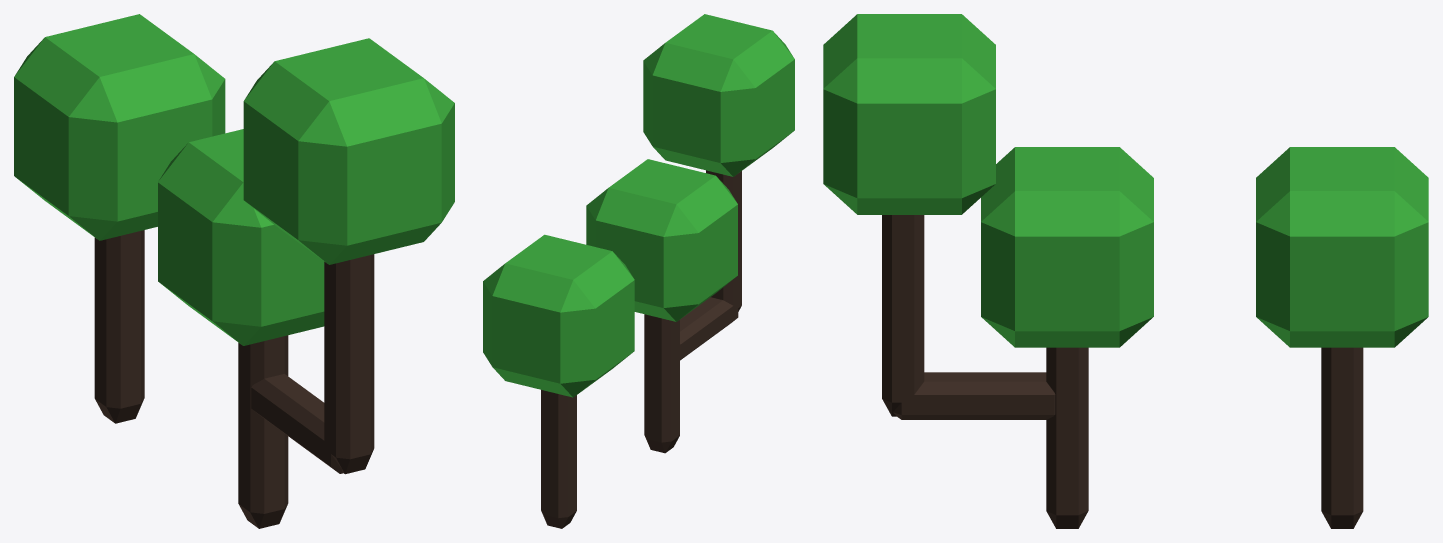
The model's file is Trees.fbx.
3 renders of one model, left to right at view 1: azimuth 30°, elevation 25°; view 2: azimuth 150°, elevation 25°; view 3: azimuth 270°, elevation 25°, orthographic. The views are drawn at different scales.
Visible parts, largest first — view 1: Cube.001, Cube; view 2: Cube.001, Cube; view 3: Cube.001, Cube.
Part boxes in pixels (box(x1,y1,x2,y2)): Cube.001: box(158, 38, 454, 528); Cube: box(14, 14, 225, 423); Cube.001: box(586, 14, 794, 453); Cube: box(483, 234, 634, 528); Cube.001: box(823, 14, 1153, 528); Cube: box(1256, 147, 1428, 528).
Size of the model in its own units: 418 by 1279 by 1434.
